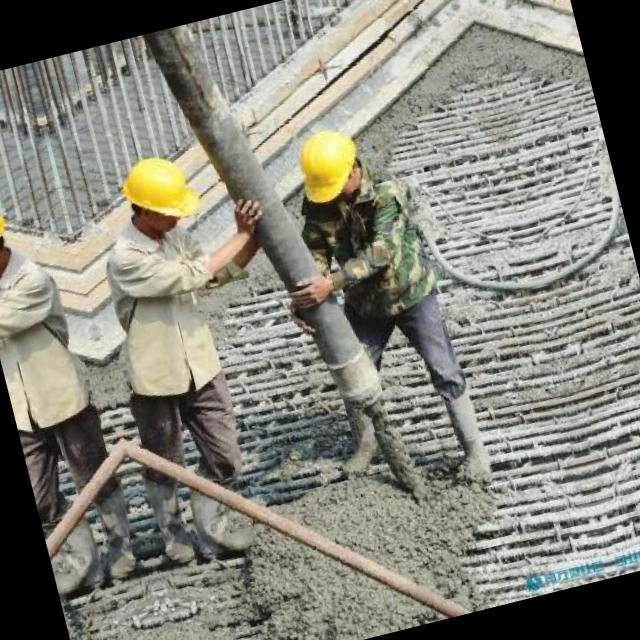helmet: (106, 142, 206, 250), (284, 120, 372, 218), (0, 187, 24, 289)
